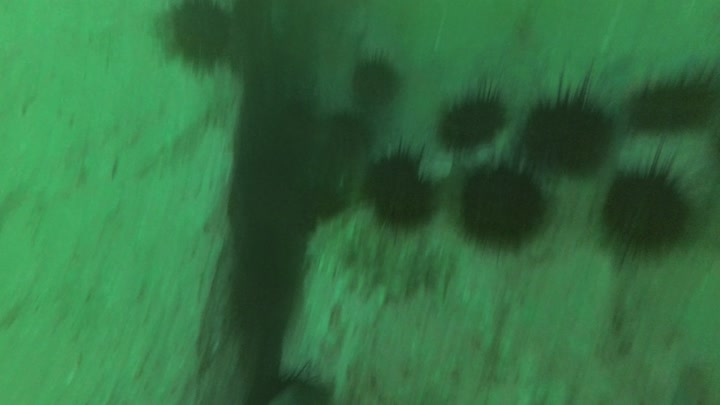echinus: (596, 141, 705, 272), (520, 63, 624, 187), (451, 145, 562, 258), (628, 54, 720, 140), (430, 79, 515, 164), (162, 1, 241, 75), (370, 170, 446, 235), (342, 50, 412, 116), (359, 136, 431, 198), (246, 364, 345, 405), (323, 108, 385, 158), (301, 174, 352, 229)
